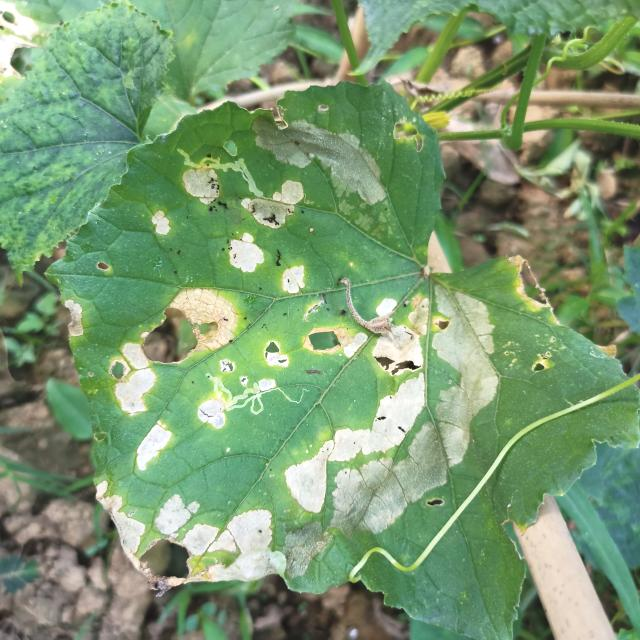disease_cucumber: (284, 286, 501, 556), (91, 289, 282, 594), (145, 127, 382, 289)
